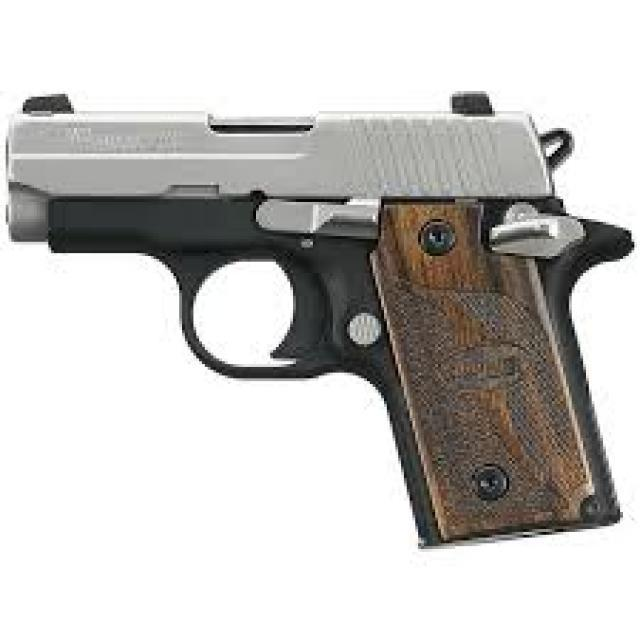semi automatic: (5, 51, 640, 557)
